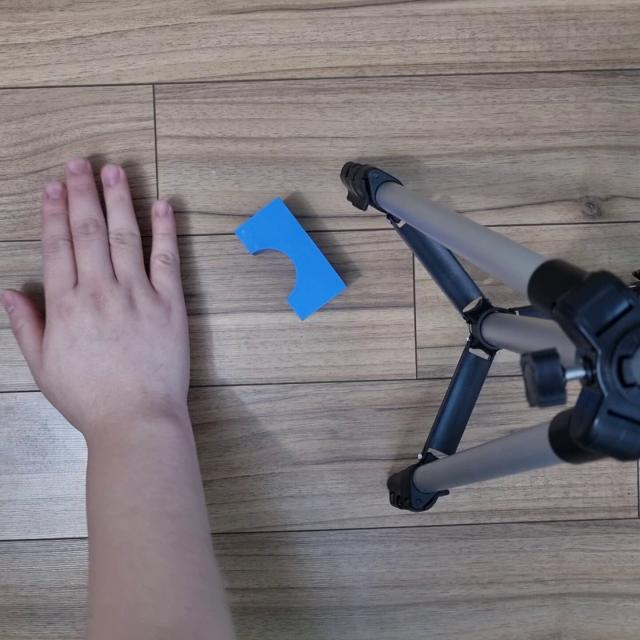block: (227, 190, 352, 340)
hand: (14, 148, 207, 449)
